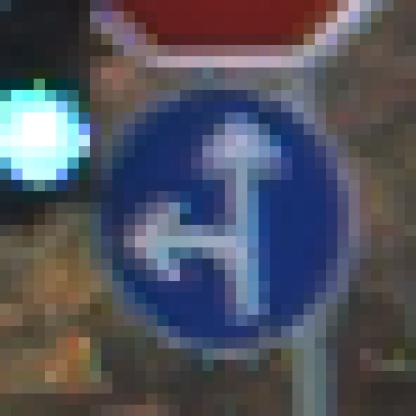Straight or Left: (69, 69, 350, 350)
